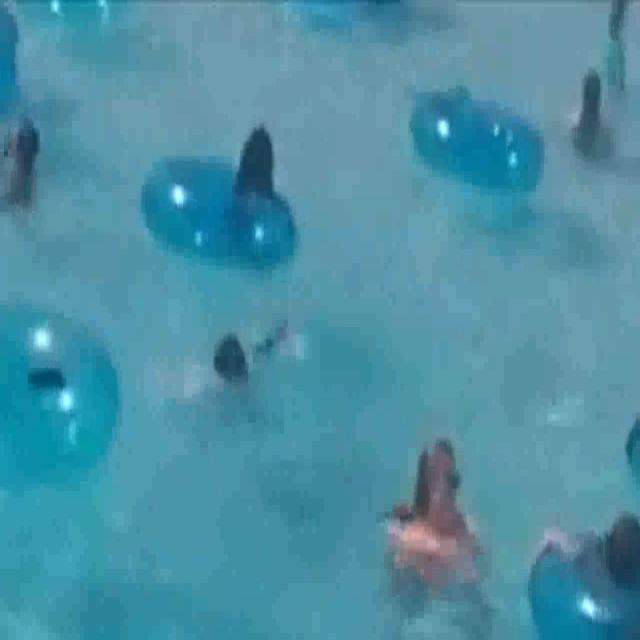drowning: (158, 297, 328, 422)
